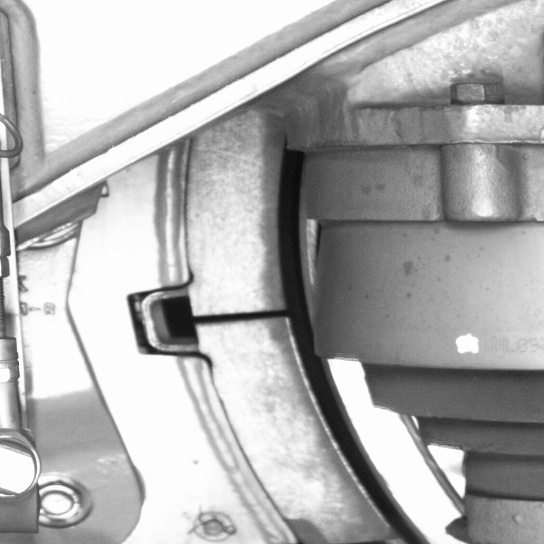KnifeSwitch: (198, 143, 431, 541)
